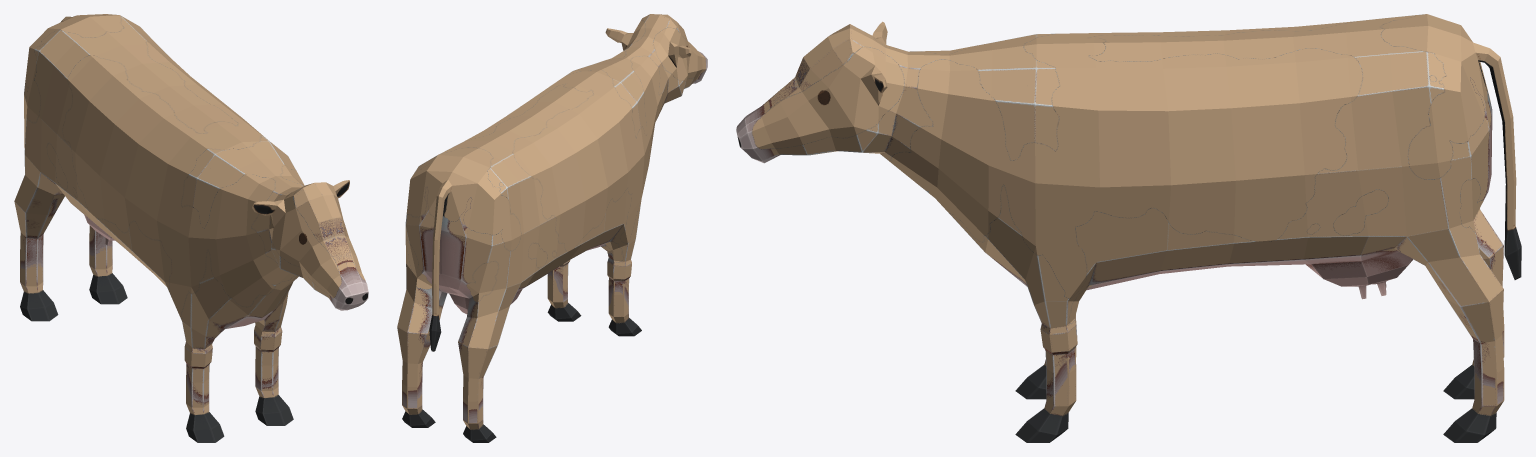
The model's file is Cow_Braunvieh.obj.
The picture shows the model from 3 angles, left to right: view 1: azimuth 30°, elevation 25°; view 2: azimuth 150°, elevation 25°; view 3: azimuth 270°, elevation 25°; orthographic projection. The views are drawn at different scales.
Visible parts, largest first — view 1: Cow_mesh; view 2: Cow_mesh; view 3: Cow_mesh.
Part boxes in pixels (x1,y1,x2,y2): Cow_mesh: [14, 14, 368, 442]; Cow_mesh: [397, 14, 707, 442]; Cow_mesh: [736, 14, 1521, 442].
Bounding box in the file's own units: 3.36 × 7.42 × 13.65.
1 material, 1 textured.
